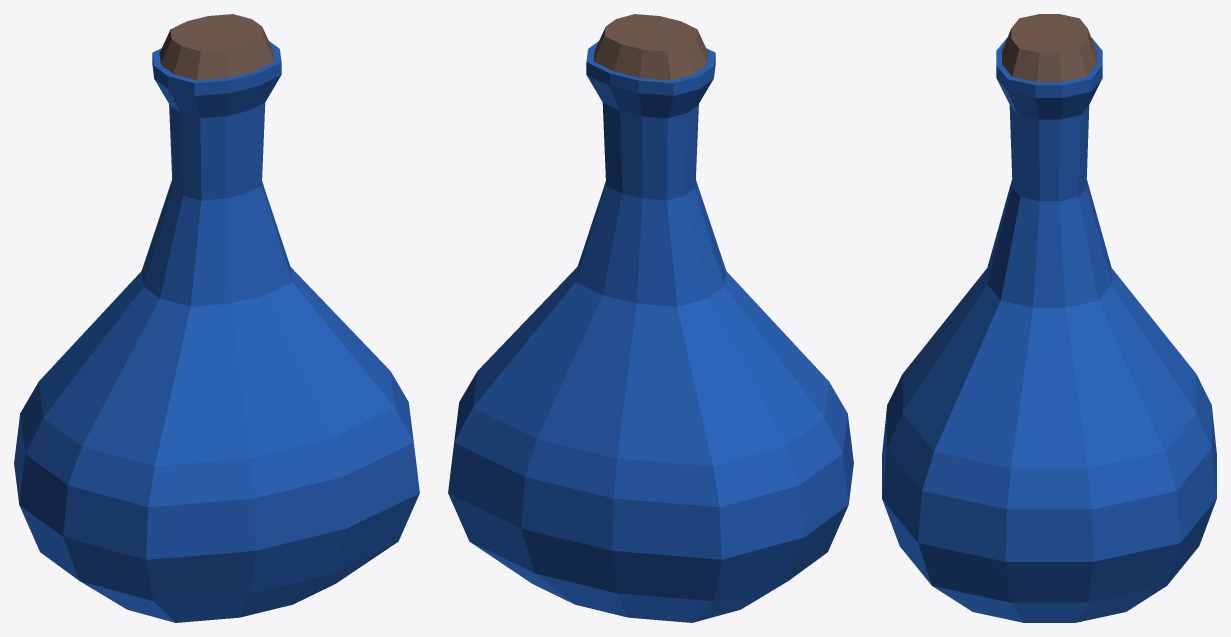
The model's file is ManaPotion.fbx.
The picture shows the model from 3 angles, left to right: view 1: azimuth 30°, elevation 25°; view 2: azimuth 150°, elevation 25°; view 3: azimuth 270°, elevation 25°; orthographic projection.
Parts seen in each view (by area): view 1: Potion.001; view 2: Potion.001; view 3: Potion.001.
Part boxes in pixels (left/top/right/bottom): Potion.001: left=14, top=14, right=419, bottom=622; Potion.001: left=448, top=14, right=853, bottom=622; Potion.001: left=882, top=14, right=1216, bottom=622.
Size of the model in its own units: 14.65 by 21.61 by 12.15.
1 material, 1 textured.
